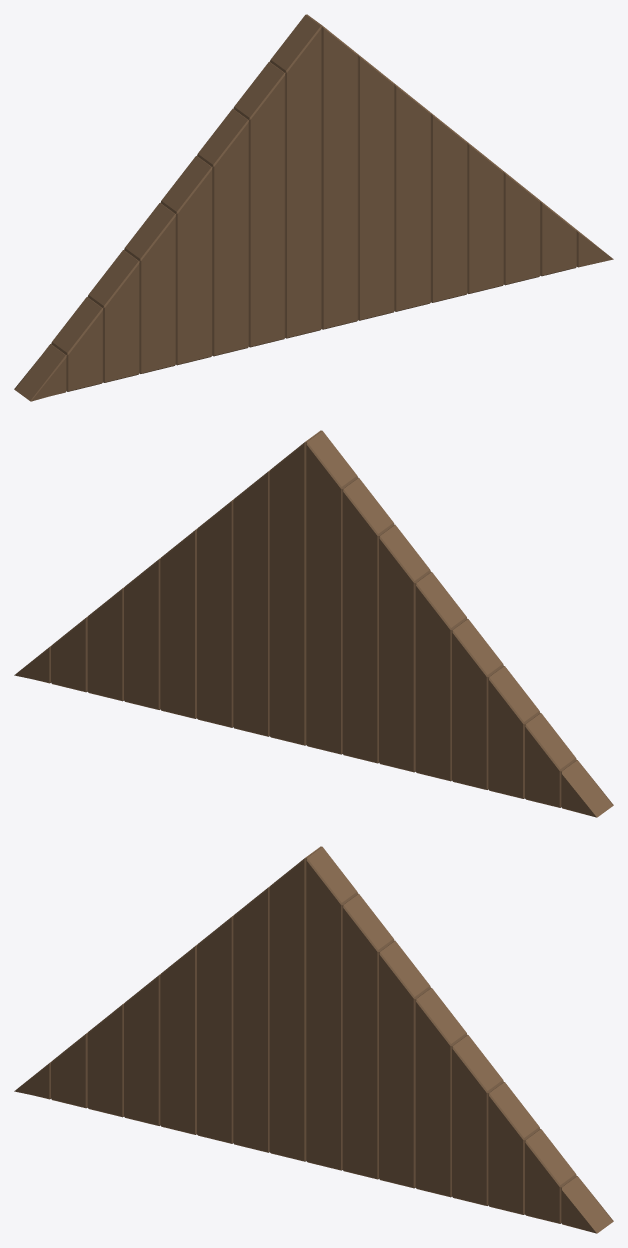
Rendered from SM_Wall_Gable_45.fbx.
3 renders of one model, top to bottom at view 1: azimuth 30°, elevation 25°; view 2: azimuth 150°, elevation 25°; view 3: azimuth 330°, elevation 25°, orthographic.
Visible parts, largest first — view 1: SM_Wall_Gable_45; view 2: SM_Wall_Gable_45; view 3: SM_Wall_Gable_45.
Part boxes in pixels (x1,y1,x2,y2): SM_Wall_Gable_45: (14, 14, 613, 401); SM_Wall_Gable_45: (14, 430, 613, 817); SM_Wall_Gable_45: (14, 846, 613, 1233).
Bounding box in the file's own units: 4 × 1.99 × 0.2.
